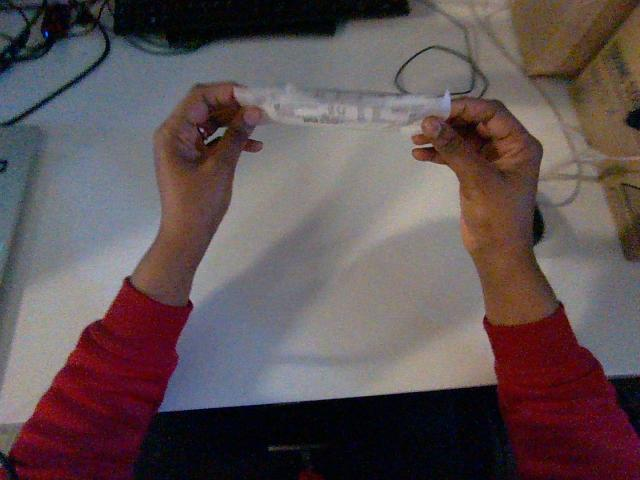syringe: (234, 85, 450, 133)
